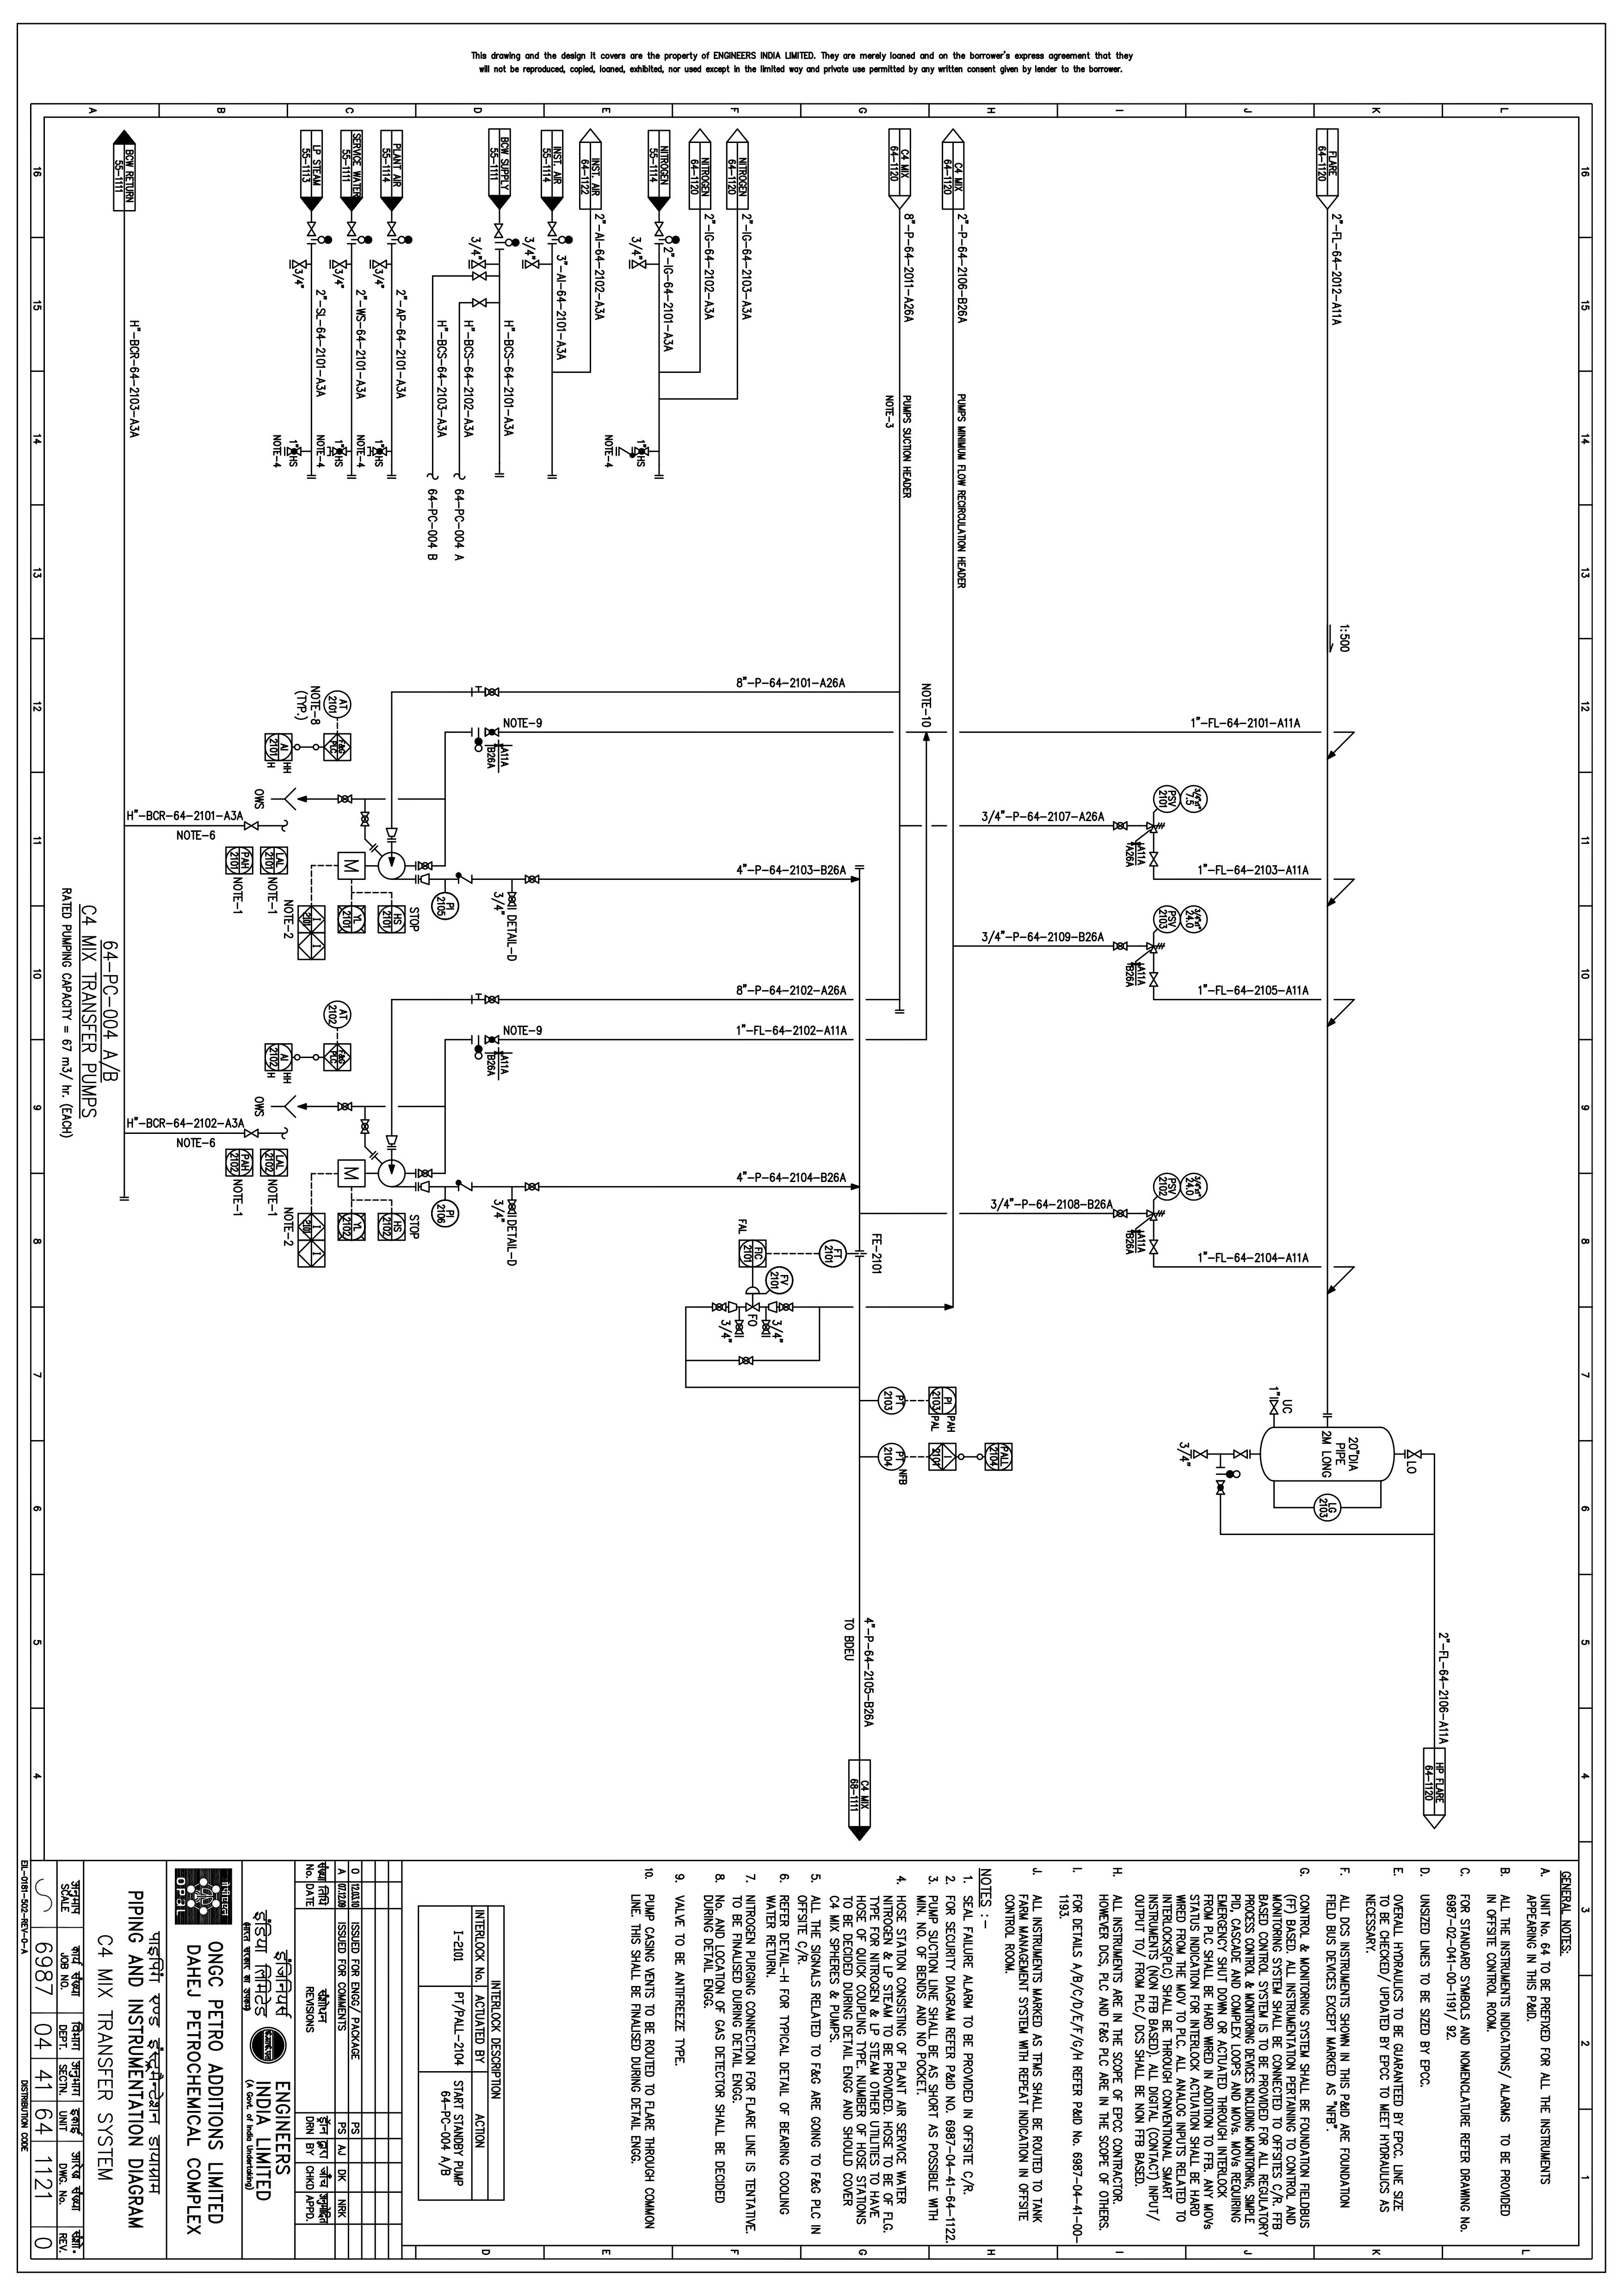ball valve: (620, 251, 655, 279), (611, 441, 655, 460), (335, 213, 364, 241), (764, 1296, 797, 1318), (285, 248, 313, 272), (487, 218, 509, 246), (462, 271, 497, 288), (302, 214, 325, 241), (323, 251, 351, 272), (406, 1163, 439, 1180), (1224, 1444, 1258, 1462), (381, 214, 402, 241), (464, 293, 495, 311), (1142, 819, 1168, 840), (364, 251, 392, 271), (408, 856, 437, 873), (541, 216, 562, 241), (520, 255, 546, 274), (1145, 1233, 1165, 1260), (379, 826, 404, 845), (330, 791, 360, 806), (650, 218, 667, 244), (411, 1177, 437, 1195), (1186, 1444, 1212, 1462), (464, 256, 492, 272), (353, 808, 374, 829), (1142, 1207, 1170, 1223), (706, 1300, 738, 1314), (1108, 938, 1136, 954), (520, 868, 543, 887), (480, 722, 504, 740), (480, 991, 504, 1008), (478, 1029, 502, 1047), (1108, 817, 1133, 834), (1143, 938, 1168, 956), (1266, 1393, 1282, 1419), (1400, 1446, 1426, 1462), (736, 1284, 769, 1296), (1214, 1476, 1231, 1498), (281, 443, 306, 458), (759, 1316, 775, 1340), (1145, 847, 1161, 871), (325, 444, 351, 458), (480, 685, 506, 699), (383, 1131, 400, 1152), (523, 1179, 545, 1196), (330, 1101, 360, 1114), (411, 871, 434, 887), (731, 1316, 747, 1339), (367, 446, 392, 460), (734, 1354, 759, 1368), (357, 1119, 374, 1138), (1108, 1207, 1135, 1219), (741, 1298, 764, 1312), (239, 1128, 263, 1140), (242, 819, 263, 833), (1147, 971, 1161, 991)
